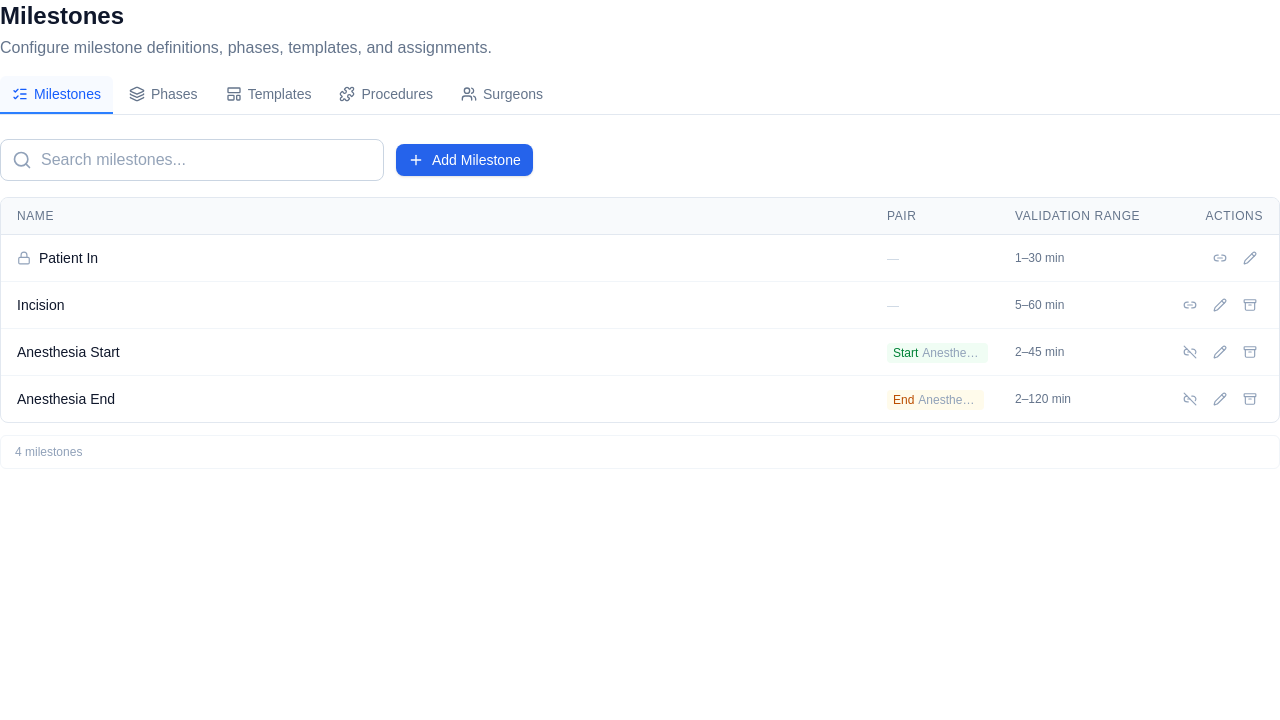
Test: MilestonesSettingsPage › Milestones tab - actions › opens add modal when Add Milestone button clicked
The image size is (1280, 720).
Click the button "Add Milestone": coordinates (464, 160) [396,144,533,176]
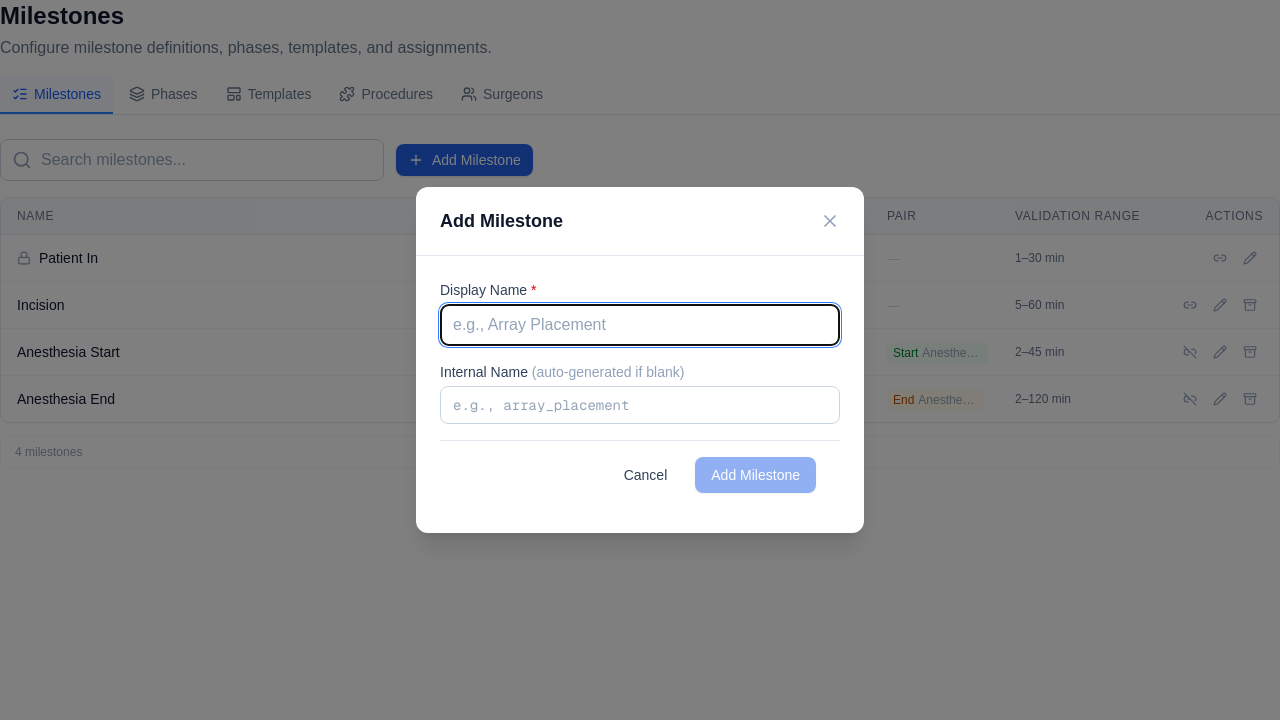
Expected: the field with placeholder "e.g., Array Placement" is shown, [440,304,840,346]
